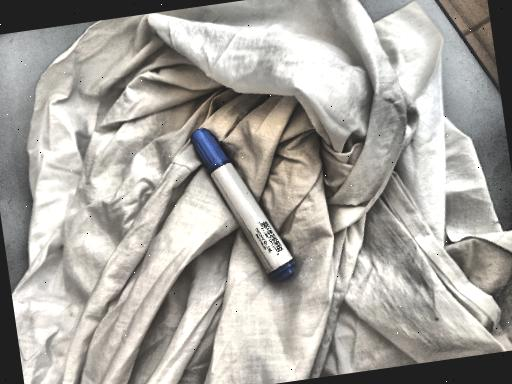marcador azul: (191, 128, 295, 280)
